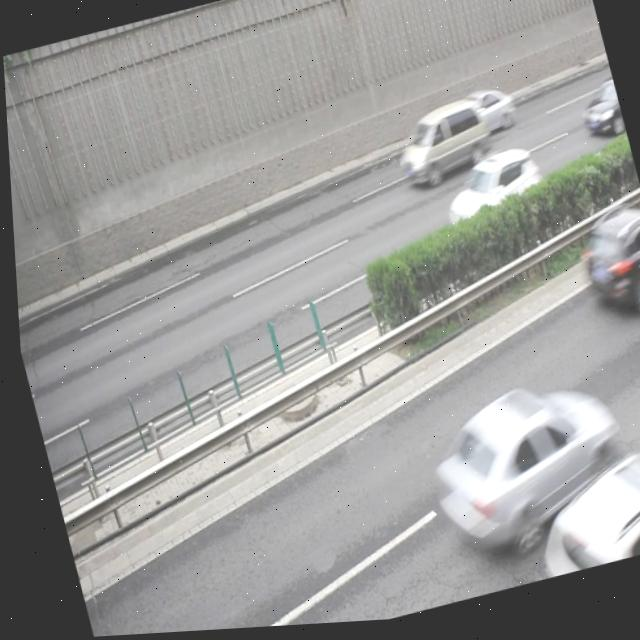car: (411, 373, 633, 573), (514, 440, 640, 586), (433, 149, 551, 255), (569, 209, 640, 330), (455, 86, 518, 145), (572, 82, 624, 149)
truck: (387, 98, 497, 196)
